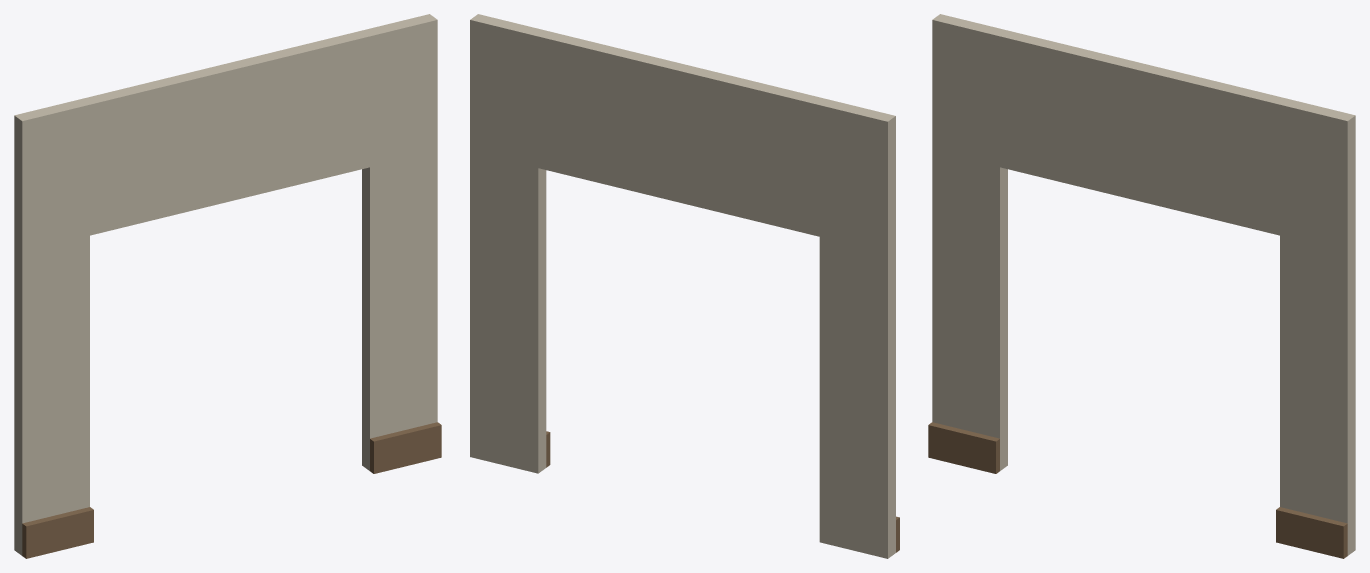
File: Mesh_WallBaseboard_A4.fbx
The picture shows the model from 3 angles, left to right: view 1: azimuth 30°, elevation 25°; view 2: azimuth 150°, elevation 25°; view 3: azimuth 330°, elevation 25°; orthographic projection.
Parts seen in each view (by area): view 1: Mesh_WallBaseboard_A4; view 2: Mesh_WallBaseboard_A4; view 3: Mesh_WallBaseboard_A4.
Boxes of the visible parts, x1=… form: Mesh_WallBaseboard_A4: x1=14, y1=14, x2=441, y2=558; Mesh_WallBaseboard_A4: x1=470, y1=14, x2=899, y2=558; Mesh_WallBaseboard_A4: x1=928, y1=14, x2=1355, y2=558.
Bounding box in the file's own units: 3 × 3 × 0.15.
